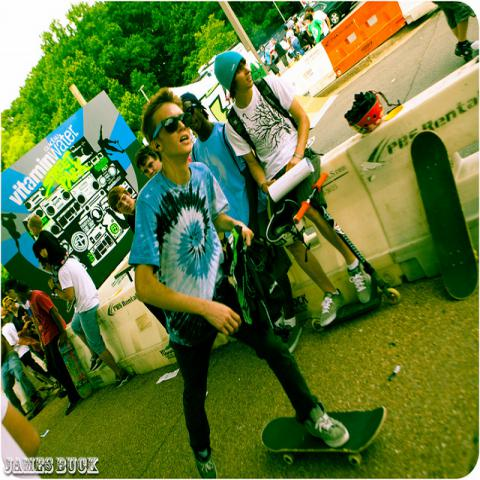car: (311, 0, 354, 26)
